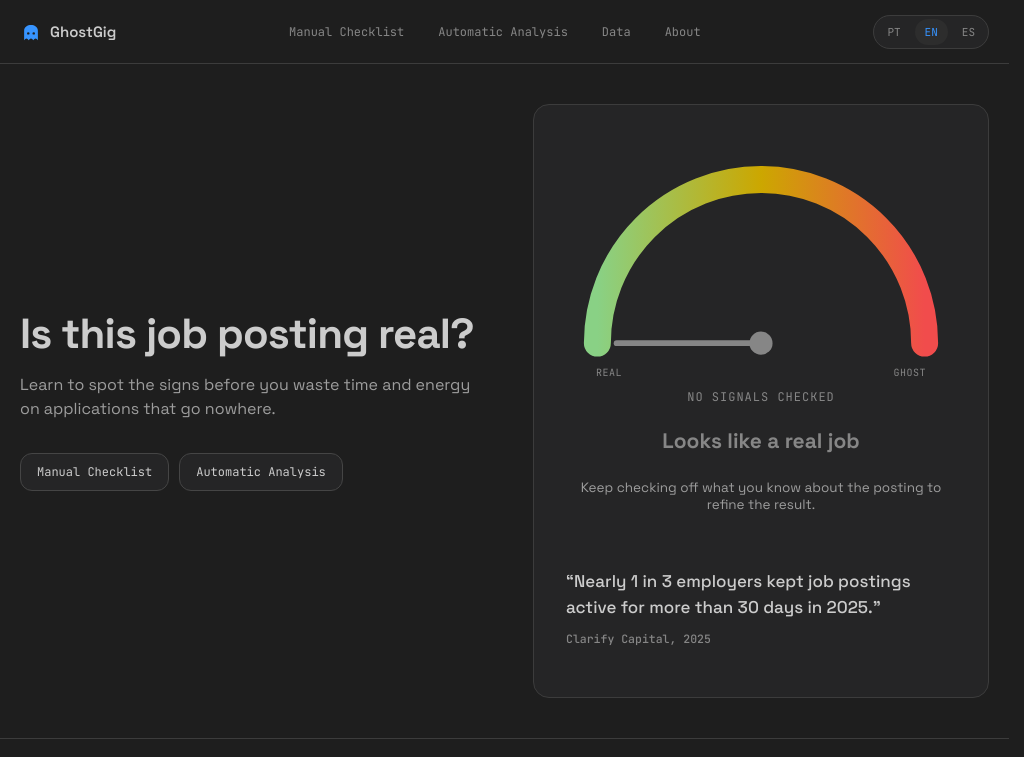
Scenario: App - navigation › navigates from Home to Manual Checklist via the nav link
This screenshot has width=1024, height=757.
Click the link "Manual Checklist" in the row of "Data" at [347, 32], box [289, 24, 404, 40]
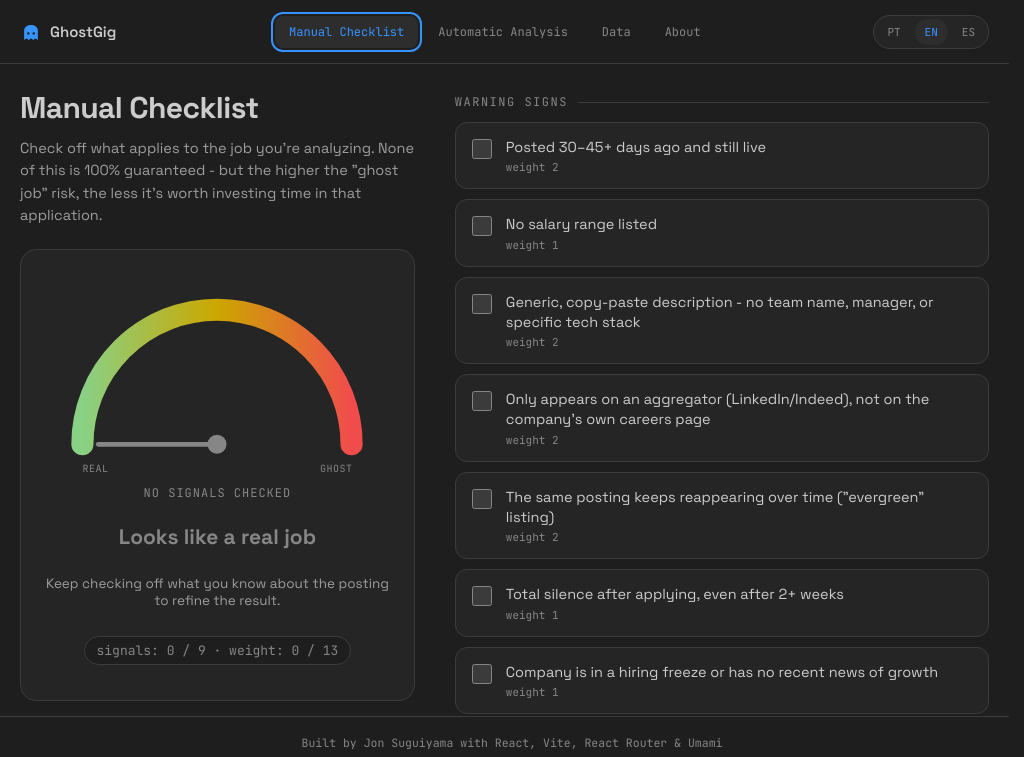
Now the heading "Manual Checklist" is shown, box [20, 88, 258, 127]
